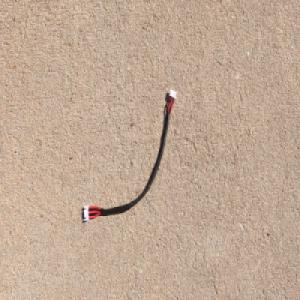Wire: (82, 87, 177, 225)
